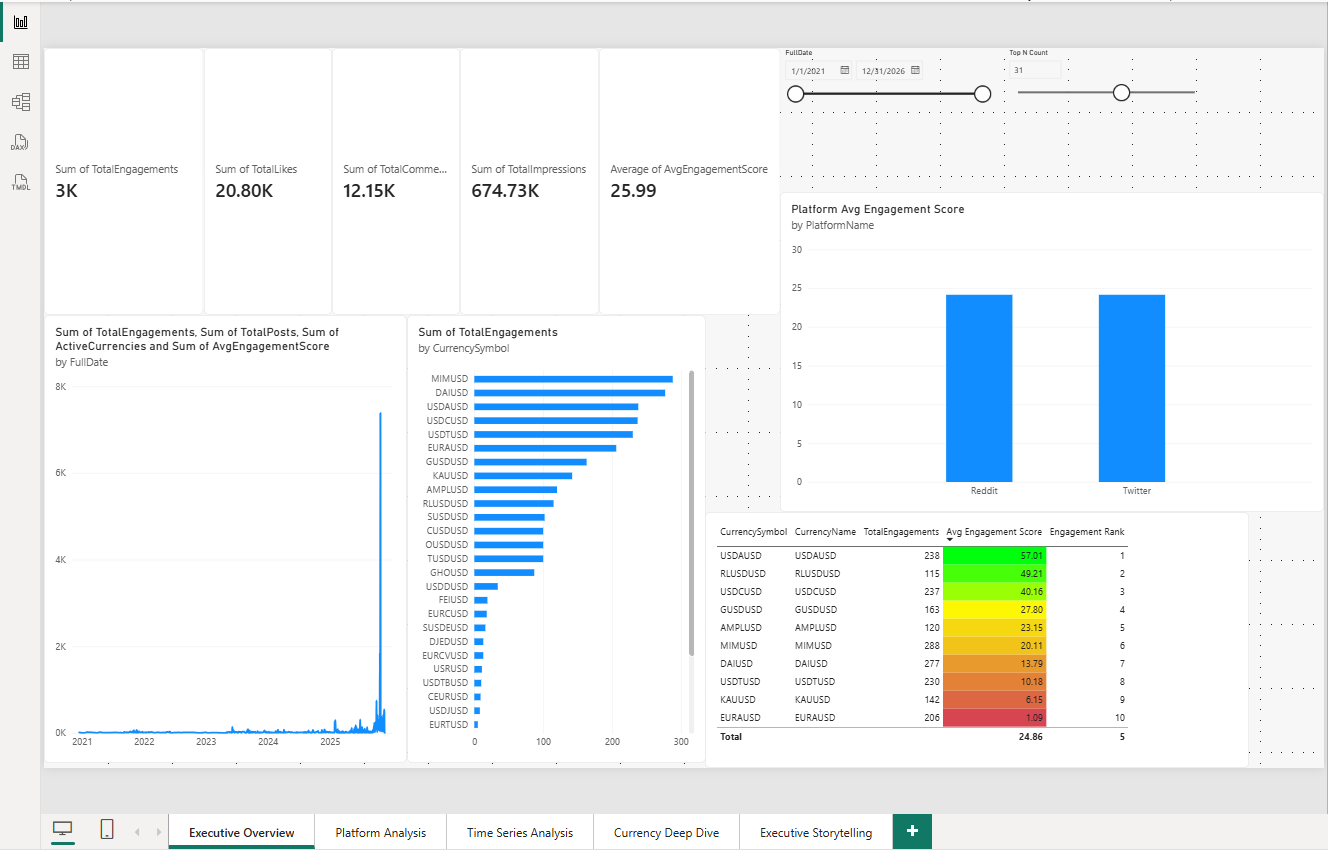

Layout of this report page (visuals, bound fields, positions):
{"tool":"powerbi","page":{"name":"Executive Overview","canvas":[1920,1080],"ordinal":0},"visuals":[{"type":"cardVisual","fields":{"Data":["Sum(vw_executivedashboard.TotalEngagements)"]},"box":[0,0,240,400],"z":0},{"type":"cardVisual","fields":{"Data":["Sum(vw_executivedashboard.TotalLikes)"]},"box":[240,0,192,400],"z":1000},{"type":"cardVisual","fields":{"Data":["Sum(vw_executivedashboard.TotalComments)"]},"box":[432,0,192,400],"z":2000},{"type":"cardVisual","fields":{"Data":["Sum(vw_executivedashboard.TotalImpressions)"]},"box":[624,0,208,400],"z":3000},{"type":"cardVisual","fields":{"Data":["Avg(vw_executivedashboard.AvgEngagementScore)"]},"box":[832,0,272,400],"z":4000},{"type":"clusteredBarChart","fields":{"Category":["vw_executivedashboard.CurrencySymbol"],"Y":["Sum(vw_executivedashboard.TotalEngagements)"]},"box":[544,400,448,672],"z":5000},{"type":"lineChart","fields":{"Category":["vw_timeseries.FullDate"],"Y":["Sum(vw_timeseries.TotalEngagements)"]},"box":[0,400,544,672],"z":6000},{"type":"tableEx","fields":{"Values":["vw_executivedashboard.CurrencySymbol","vw_executivedashboard.CurrencyName","vw_executivedashboard.TotalEngagements","vw_executivedashboard.Avg Engagement Score","vw_executivedashboard.Engagement Rank"]},"box":[992,696,816,384],"z":8000},{"type":"slicer","fields":{"Values":["dimdate.FullDate"]},"box":[1104,0,320,112],"z":9000},{"type":"slicer","fields":{"Values":["Top N Count.Top N Count"]},"box":[1440,0,304,112],"z":10000},{"type":"clusteredColumnChart","fields":{"Category":["vw_platformdaily.PlatformName"],"Y":["KPI Measures.Platform Avg Engagement Score"]},"box":[1104,216,816,480],"z":11000}]}

Visuals, with their boxes on the page's 1920x1080 design canvas (x1, y1, x2, y2). These are canvas units, not pixel positions in the 1328x850 screenshot, which may show the page scaled, cropped or inside an application window:
cardVisual - Sum(vw_executivedashboard.TotalEngagements): (x1=0, y1=0, x2=240, y2=400)
cardVisual - Sum(vw_executivedashboard.TotalLikes): (x1=240, y1=0, x2=432, y2=400)
cardVisual - Sum(vw_executivedashboard.TotalComments): (x1=432, y1=0, x2=624, y2=400)
cardVisual - Sum(vw_executivedashboard.TotalImpressions): (x1=624, y1=0, x2=832, y2=400)
cardVisual - Avg(vw_executivedashboard.AvgEngagementScore): (x1=832, y1=0, x2=1104, y2=400)
clusteredBarChart - vw_executivedashboard.CurrencySymbol x Sum(vw_executivedashboard.TotalEngagements): (x1=544, y1=400, x2=992, y2=1072)
lineChart - vw_timeseries.FullDate x Sum(vw_timeseries.TotalEngagements): (x1=0, y1=400, x2=544, y2=1072)
tableEx - vw_executivedashboard.CurrencySymbol x vw_executivedashboard.CurrencyName: (x1=992, y1=696, x2=1808, y2=1080)
slicer - dimdate.FullDate: (x1=1104, y1=0, x2=1424, y2=112)
slicer - Top N Count.Top N Count: (x1=1440, y1=0, x2=1744, y2=112)
clusteredColumnChart - vw_platformdaily.PlatformName x KPI Measures.Platform Avg Engagement Score: (x1=1104, y1=216, x2=1920, y2=696)
